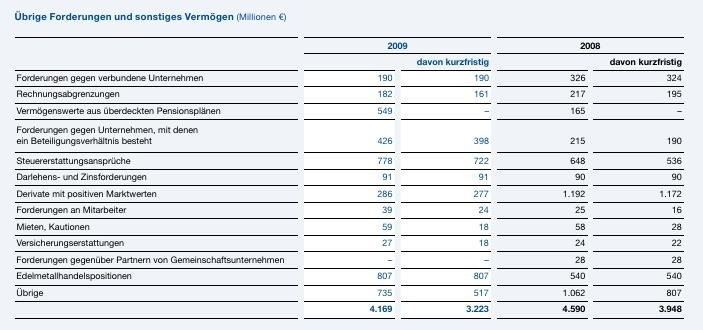table: (0, 0, 703, 330)
